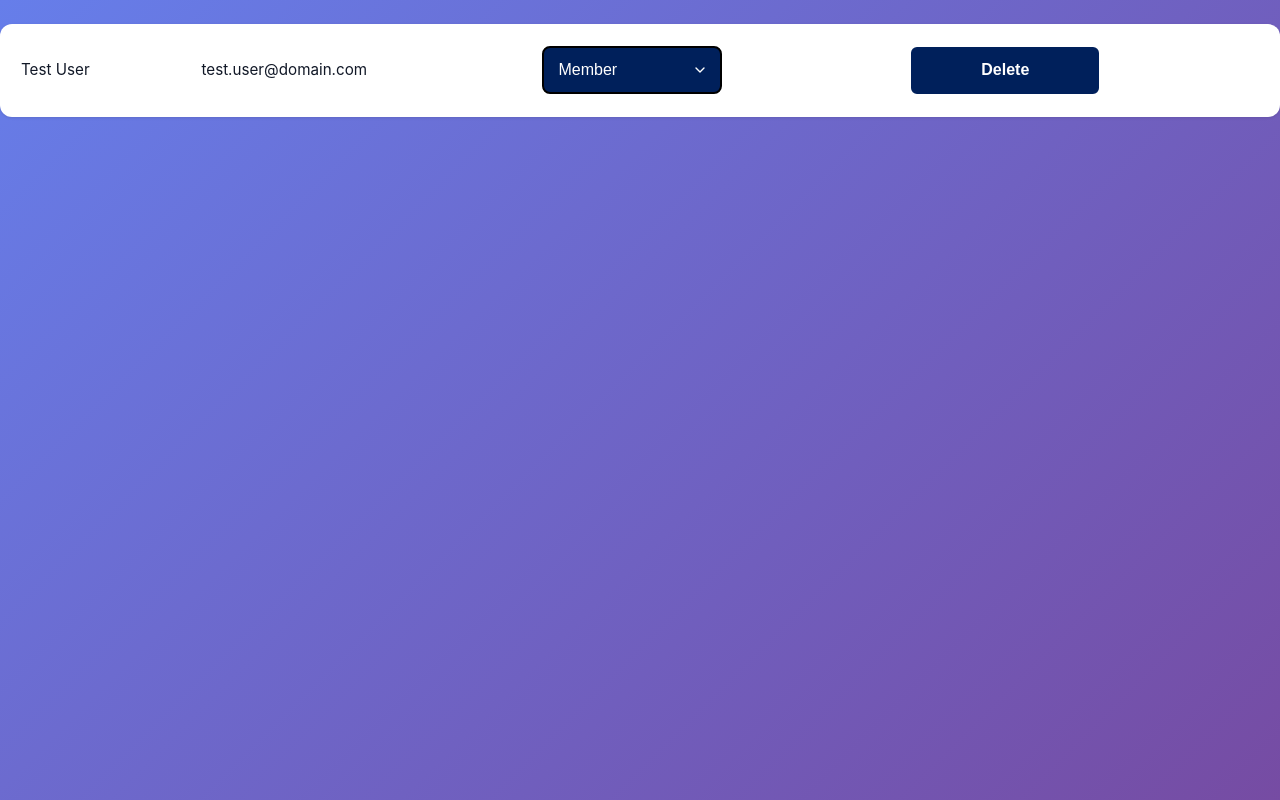
Test: MemberRow › Clicking delete shows Confirm Delete and Cancel
Click the button "Delete" at {"x": 1005, "y": 70}, box [909, 45, 1101, 96]
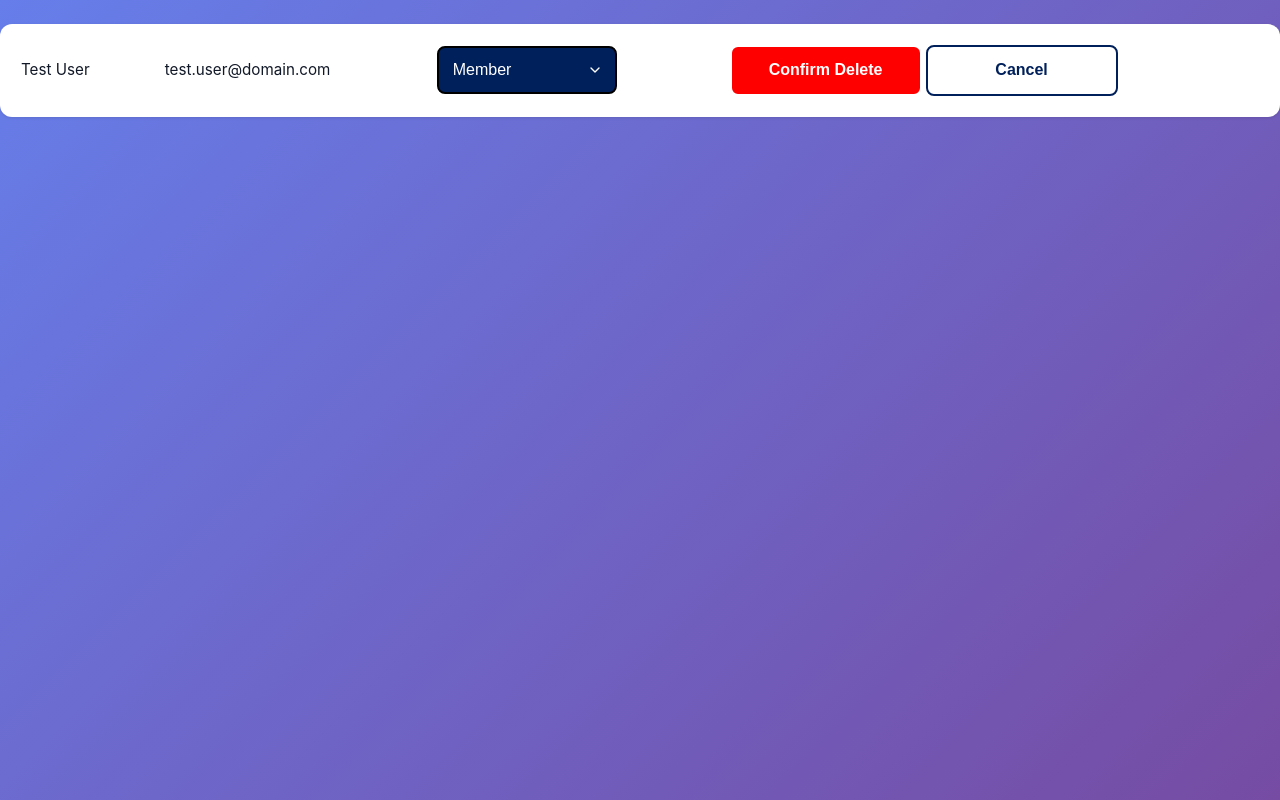
Check: the button "Confirm Delete" is shown, box [730, 45, 922, 96]
Check: the button "Cancel" is shown, box [926, 45, 1118, 96]
